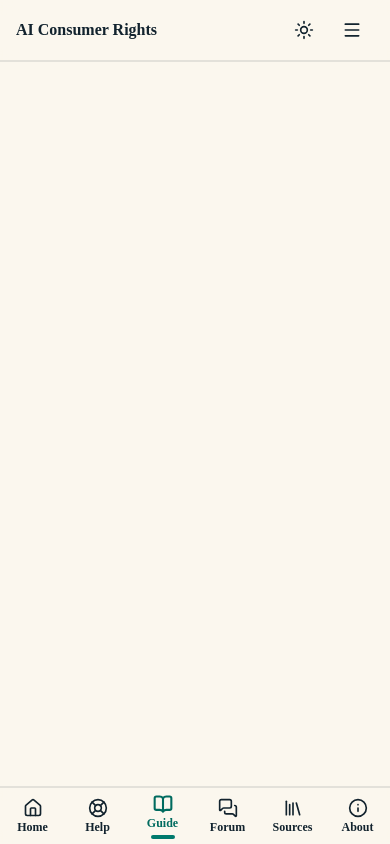
Test: SiteNav › opens a labelled drawer with every page and a hint for each
Click the button named "Open menu".
click(352, 30)  # box [330,8,374,52]
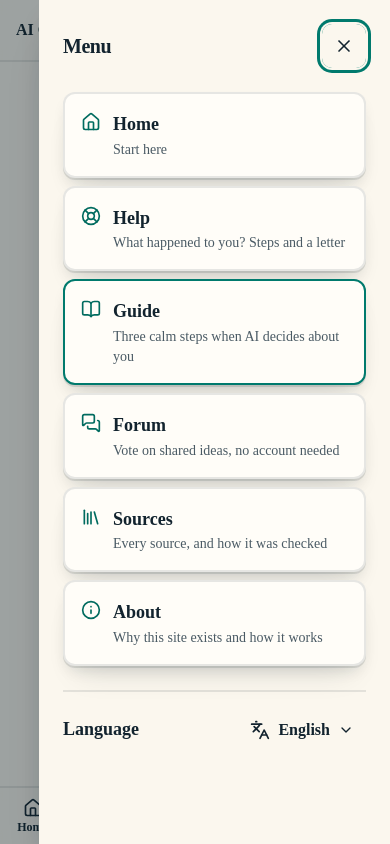
Expected: the text "Start here" is shown, [113,140,167,160]
Expected: the text "What happened to you? Steps and a letter" is shown, [113,233,345,253]
Expected: the text "Three calm steps when AI decides about you" is shown, [113,327,348,367]
